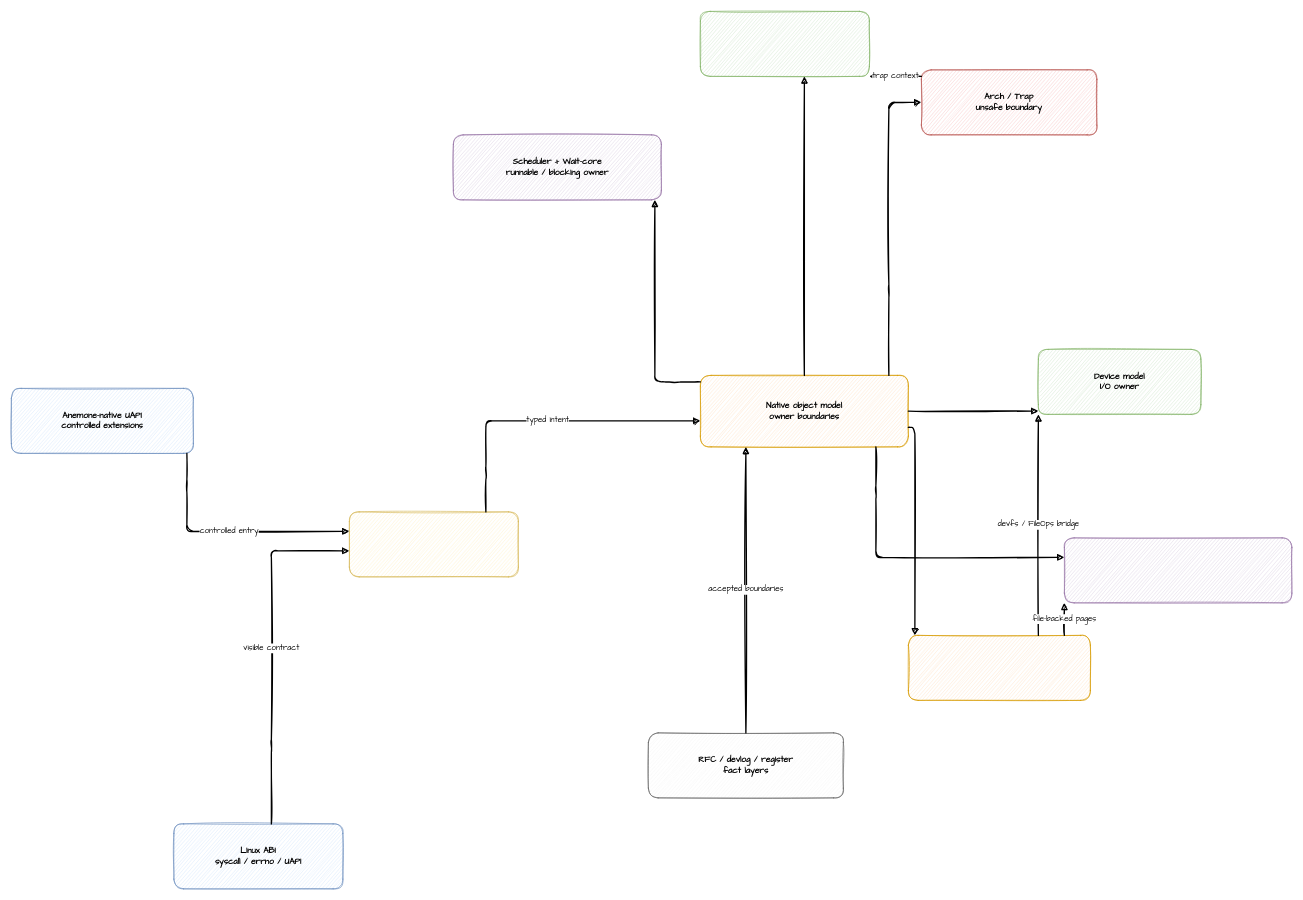
Some shapes in this 1303 by 900 pixel diagram are drawn without their labels. The shapes that lost their labels are listed below. From the top down, each one's centre as x and y in pixels, then its label:
point (784, 43): Task + Topology identity owner
point (433, 544): ABI adapter translation only
point (1178, 570): Address space + backing object memory owner
point (999, 667): VFS + pseudo fs namespace bridge
